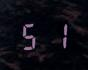five: (19, 20, 43, 50)
one: (44, 19, 68, 49)
